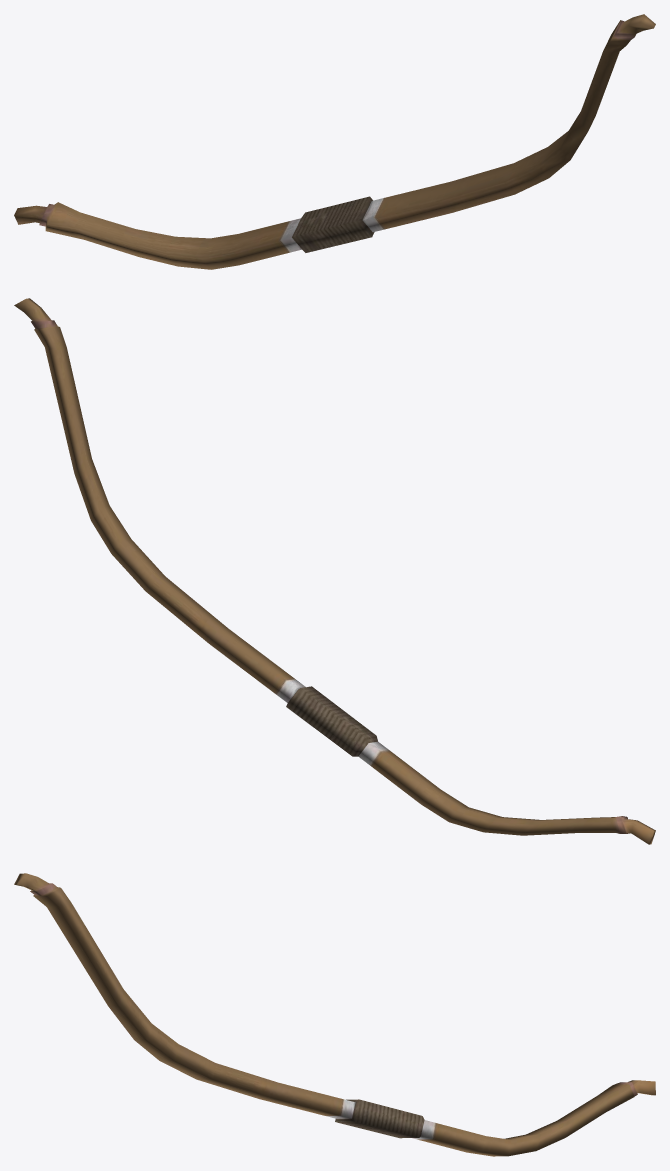
File: rider-weapon-slice-base.glb
The picture shows the model from 3 angles, top to bottom: view 1: azimuth 30°, elevation 25°; view 2: azimuth 210°, elevation 25°; view 3: azimuth 270°, elevation 25°; orthographic projection. The views are drawn at different scales.
Bounding box in the file's own units: 0.6231 × 0.7526 × 1.17.
1 material, 1 textured.
